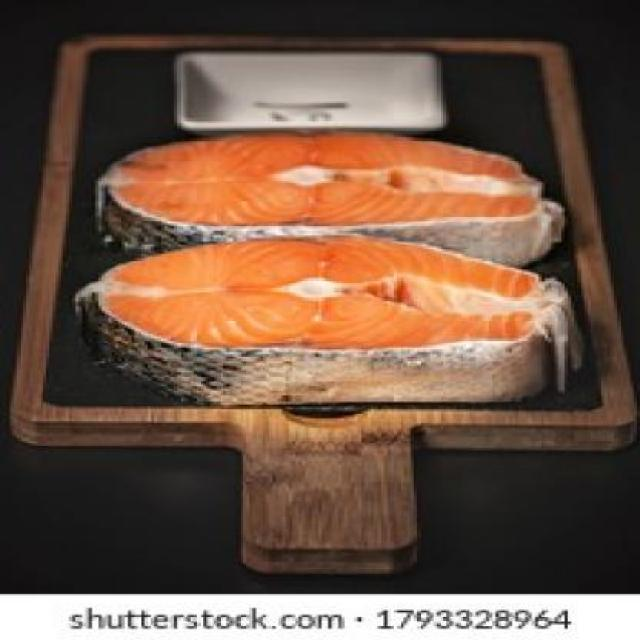salmon: (69, 235, 588, 402), (72, 123, 581, 283)
